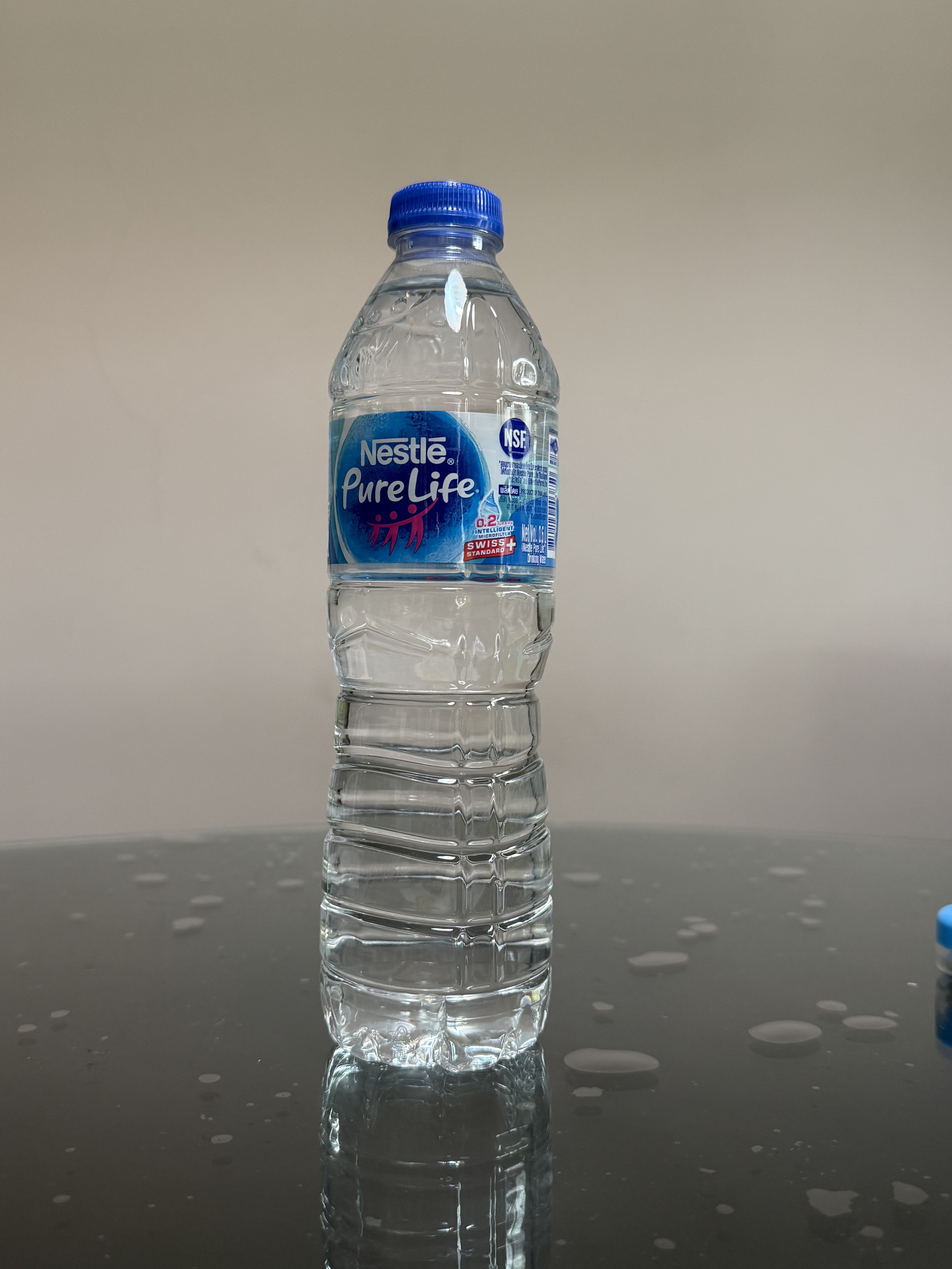closed_cap: (384, 177, 505, 251)
